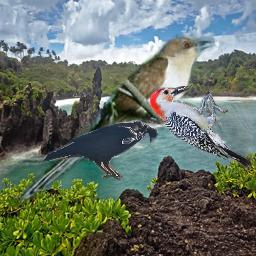Crow: (41, 120, 158, 181)
Cuckoo: (15, 34, 220, 208)
Woodpecker: (150, 86, 253, 170)
